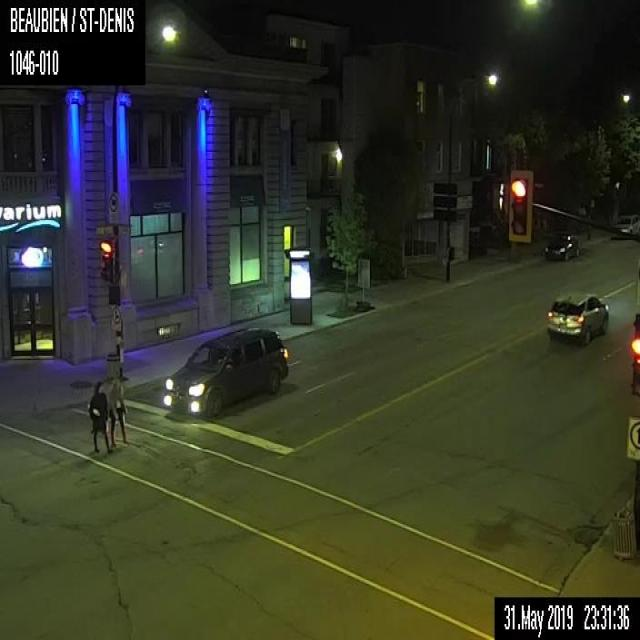pedestrian: (86, 380, 113, 453), (107, 377, 129, 446)
vehicle: (159, 326, 289, 418), (545, 288, 610, 343), (543, 229, 582, 260), (609, 212, 639, 240)
